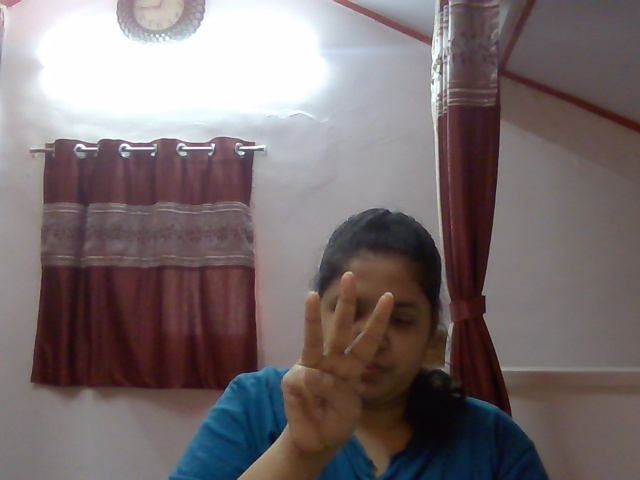w: (260, 267, 407, 464)
